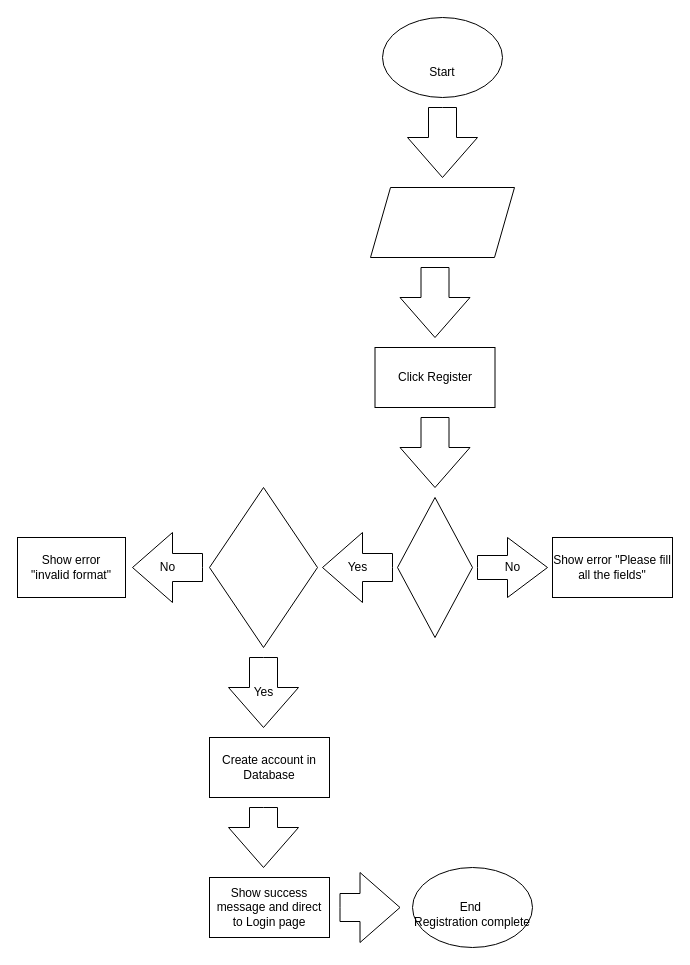
This 690x965 diagram has some shape labels left out. Each missing label, with the box of its shape:
Are all filelds filled?: (396, 496, 472, 638)
Enter Display Name, Surname, Email and Password: (370, 186, 514, 258)
Is email valid and password strong?: (208, 486, 318, 648)
